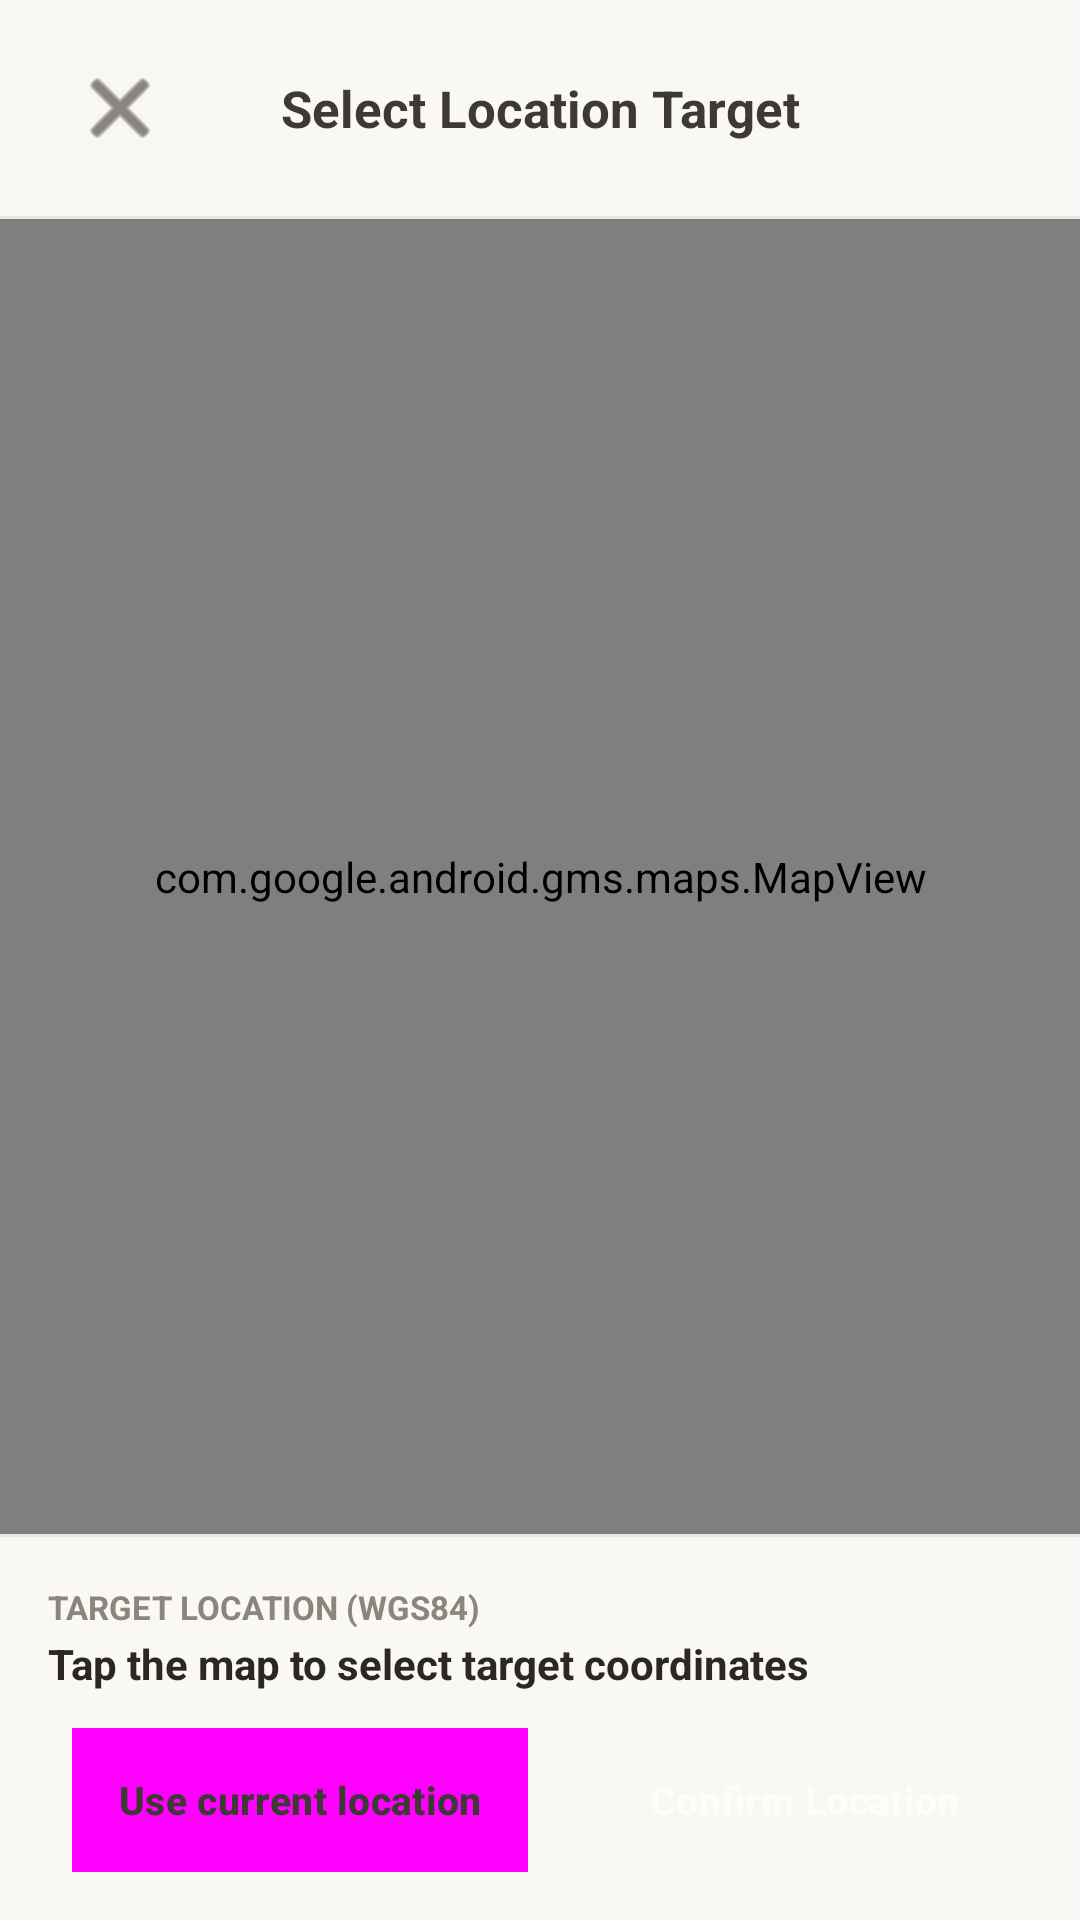

Screen size 1080 × 1920. Icon name, then its box in pixels as (x1, y1, x2, y2):
Close map selector: (90, 78, 150, 138)
